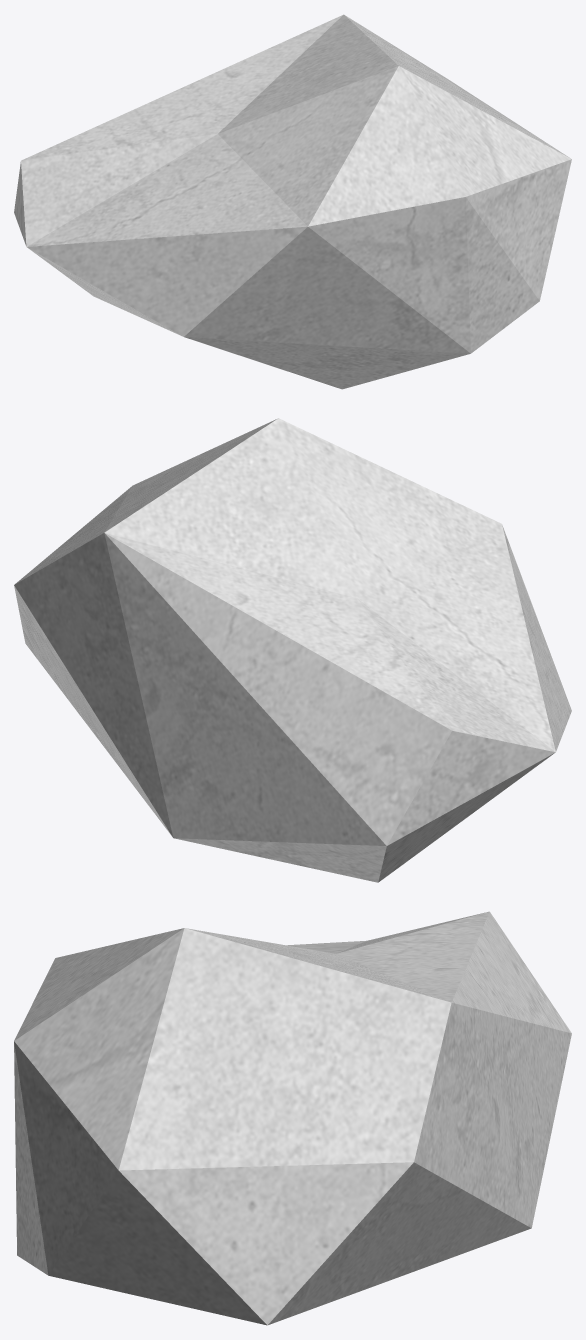
File: smallstone.fbx
3 renders of one model, top to bottom at view 1: azimuth 30°, elevation 25°; view 2: azimuth 150°, elevation 25°; view 3: azimuth 270°, elevation 25°, orthographic. The views are drawn at different scales.
Parts seen in each view (by area): view 1: rock.003; view 2: rock.003; view 3: rock.003.
Part boxes in pixels (bbox=[...]): rock.003: bbox=[14, 14, 571, 389]; rock.003: bbox=[14, 418, 571, 882]; rock.003: bbox=[14, 911, 571, 1325].
Bounding box in the file's own units: 132 × 81.1 × 99.21.
Materials: 1 (1 with a texture image).
